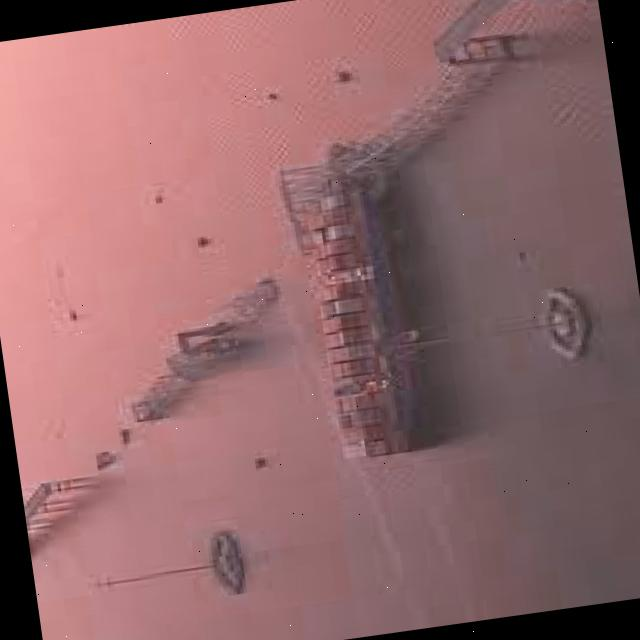bridge collapse: (148, 13, 555, 356), (5, 328, 215, 526)
